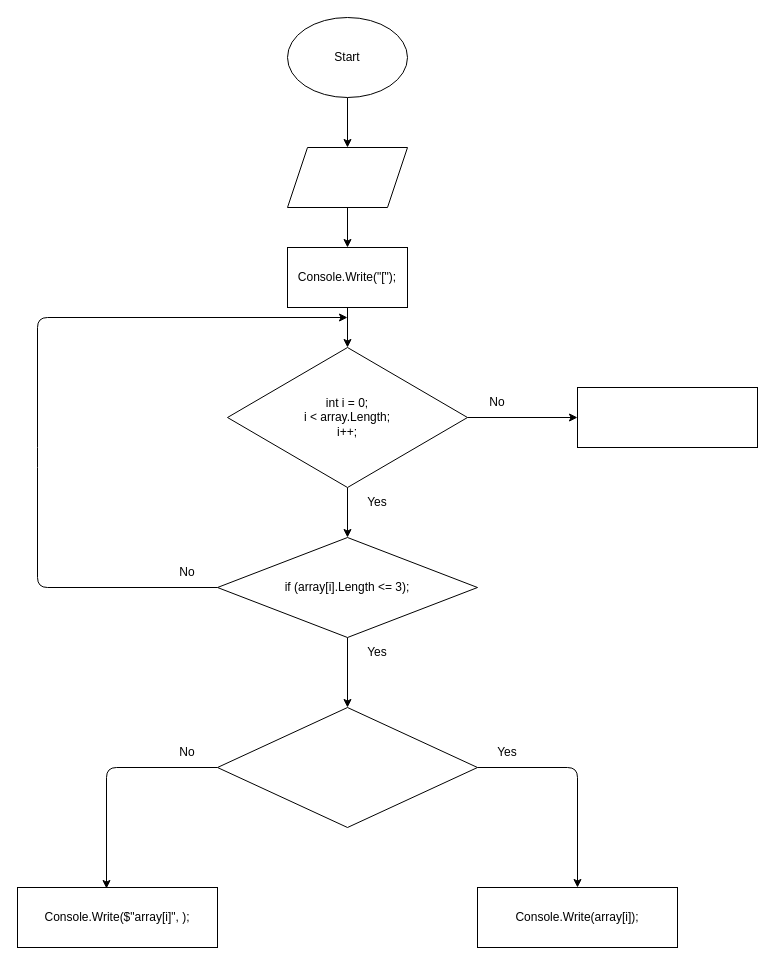
Some shapes in this 775 by 965 pixel diagram are drawn without their labels. The centre of each missing label's shape, as x and y in pixels:
Console.Write("]");: [667,417]
if (i < array.Length - i): [347,767]
string[] array;: [347,177]
